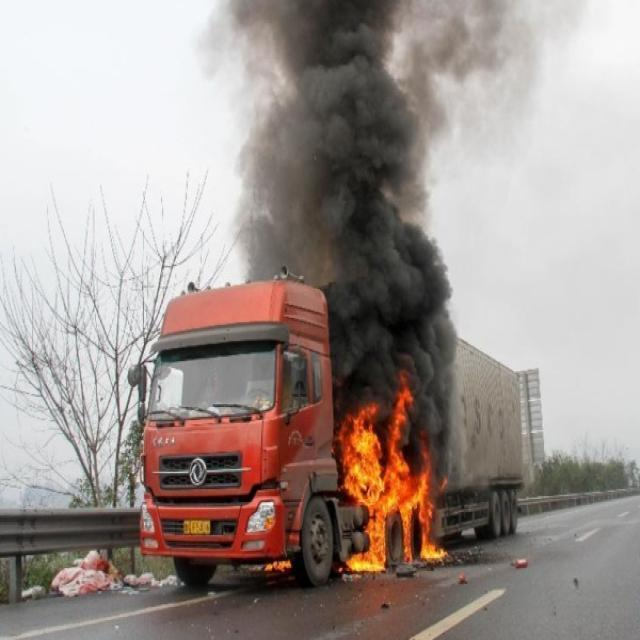Fire: (342, 444, 448, 576), (387, 375, 413, 445), (336, 404, 379, 442)
Smoke: (206, 0, 497, 266), (328, 267, 457, 377), (416, 376, 466, 444)
